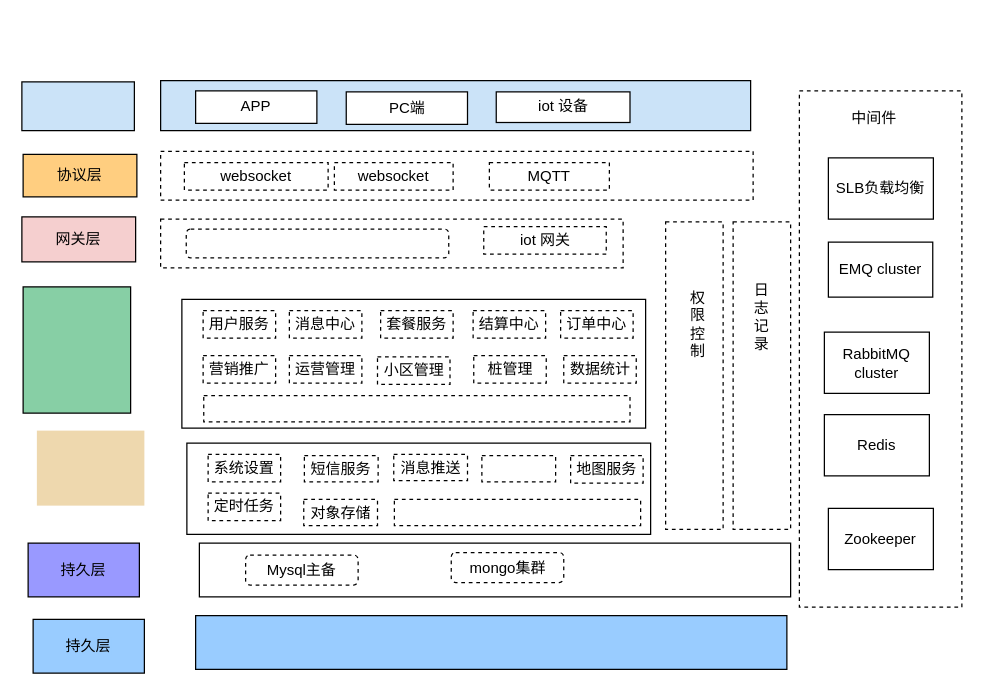
Some shapes in this 984 by 695 pixel diagram are drawn without their labels. Here are the shapes that lost their labels. From the top down, the centre of each, then its label:
(x=77, y=106): 接入层
(x=317, y=243): API网关
(x=76, y=349): 业务服务层
(x=416, y=408): 其他业务模块
(x=90, y=467): 基础服务层
(x=518, y=468): 支付服务
(x=517, y=512): 其他基础服务
(x=490, y=641): esc云主机
